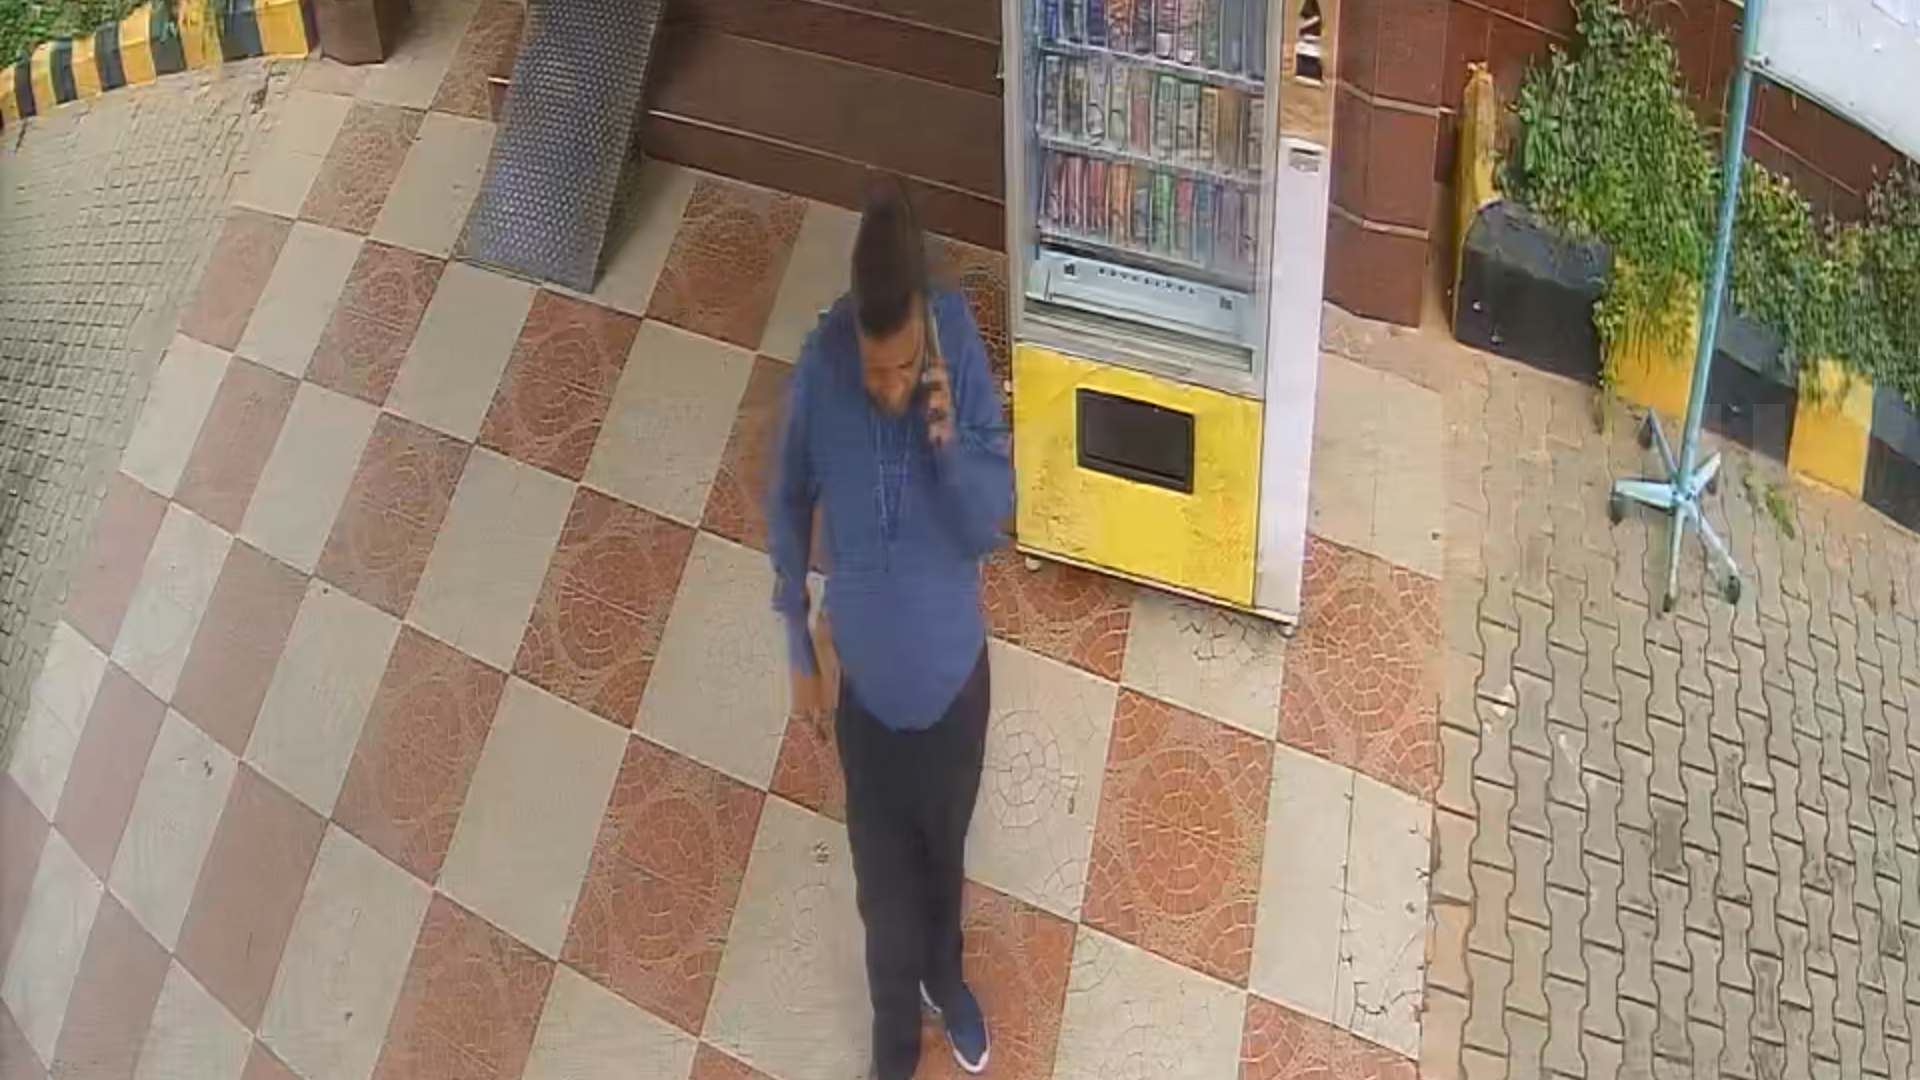intruder: (778, 199, 1064, 1080)
